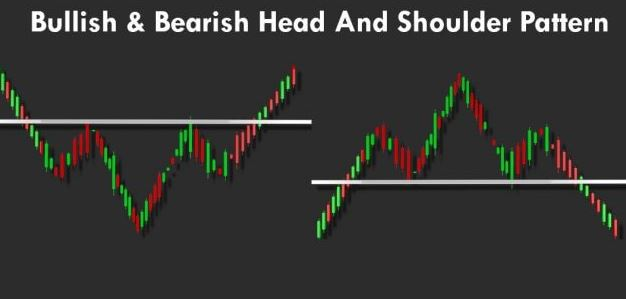Inverse H&S Pattern: (24, 127, 238, 235)
